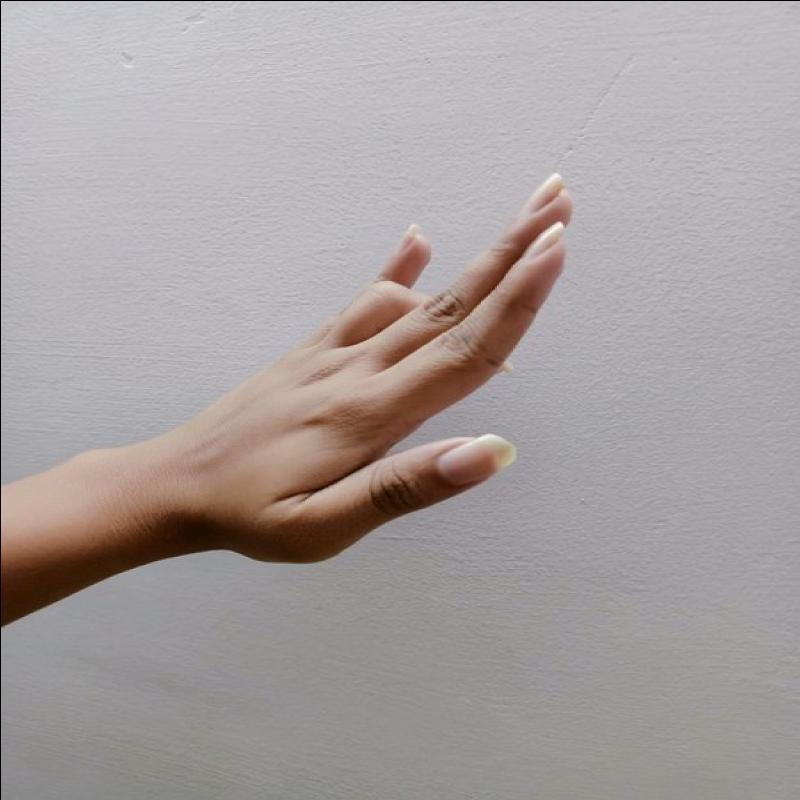Pathaaka: (147, 155, 594, 573)
